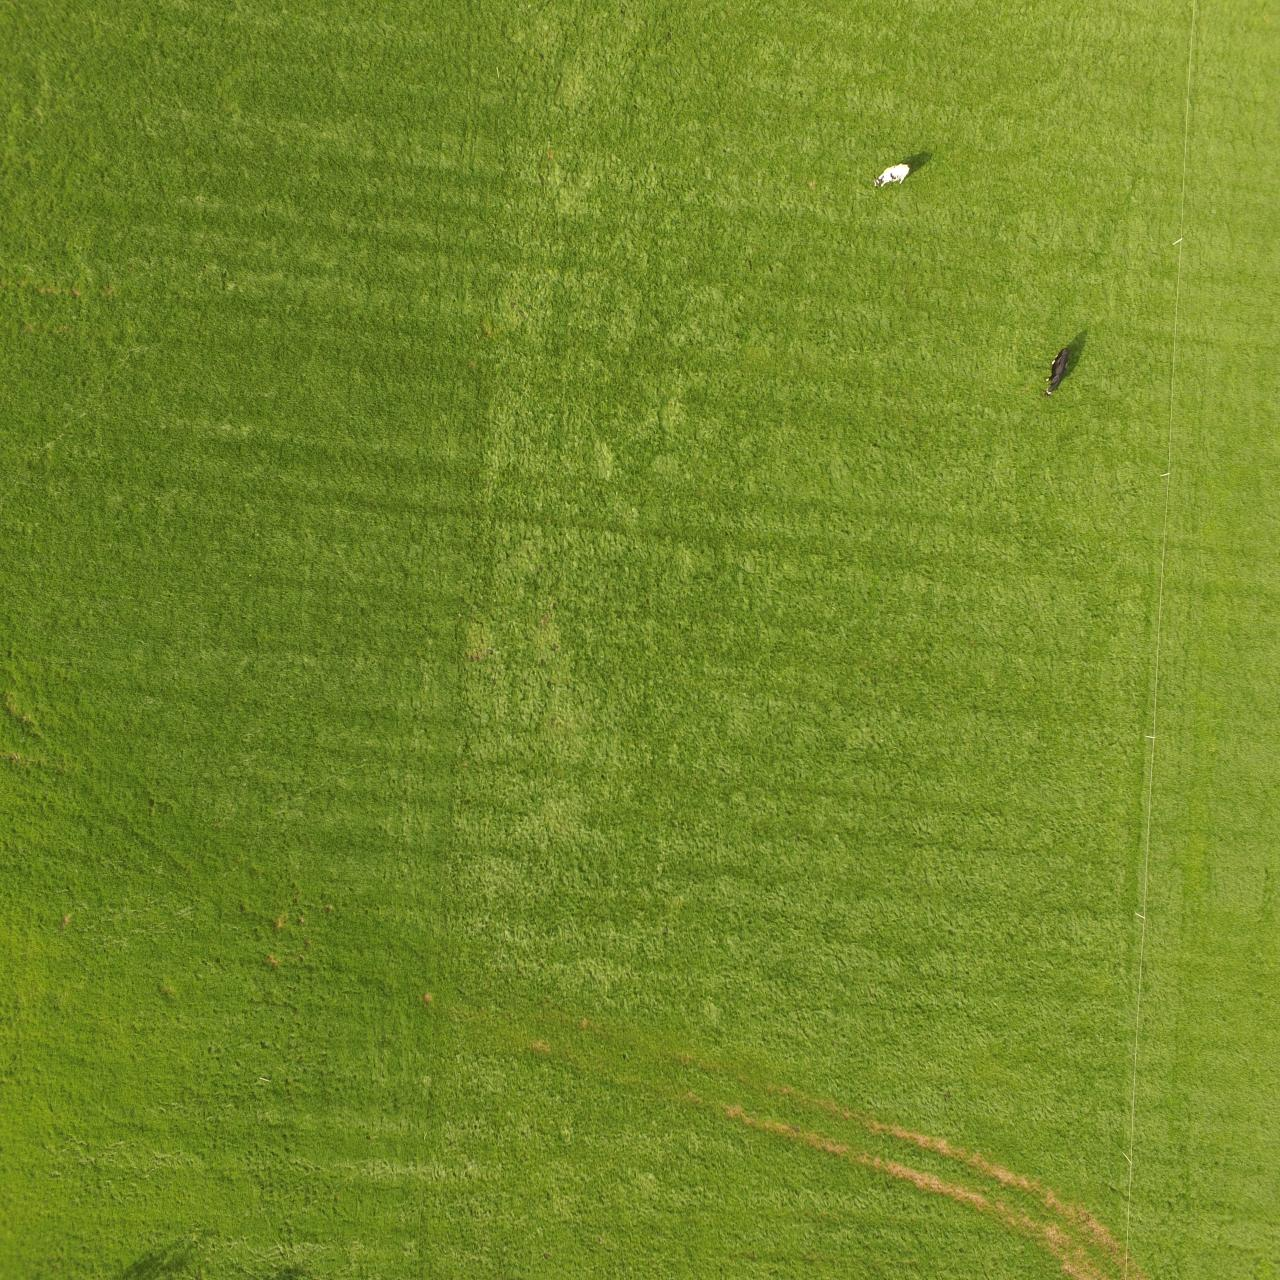cow: (1040, 346, 1070, 402), (872, 162, 912, 188)
